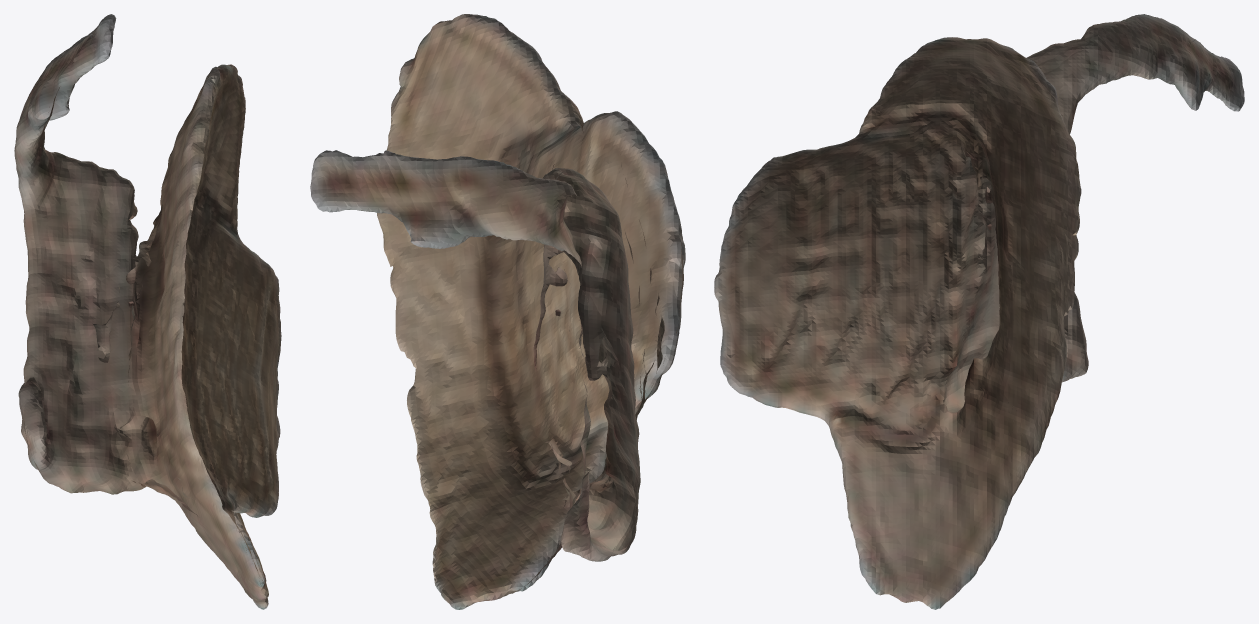
The model's file is triposr.glb.
3 views of the same model, side by side, from view 1: azimuth 30°, elevation 25°; view 2: azimuth 150°, elevation 25°; view 3: azimuth 270°, elevation 25° (orthographic). The views are drawn at different scales.
Parts seen in each view (by area): view 1: geometry_0; view 2: geometry_0; view 3: geometry_0.
Boxes of the visible parts, x1=… form: geometry_0: x1=14, y1=14, x2=281, y2=609; geometry_0: x1=310, y1=14, x2=685, y2=609; geometry_0: x1=714, y1=14, x2=1244, y2=609.
Bounding box in the file's own units: 0.4026 × 0.998 × 0.8489.
